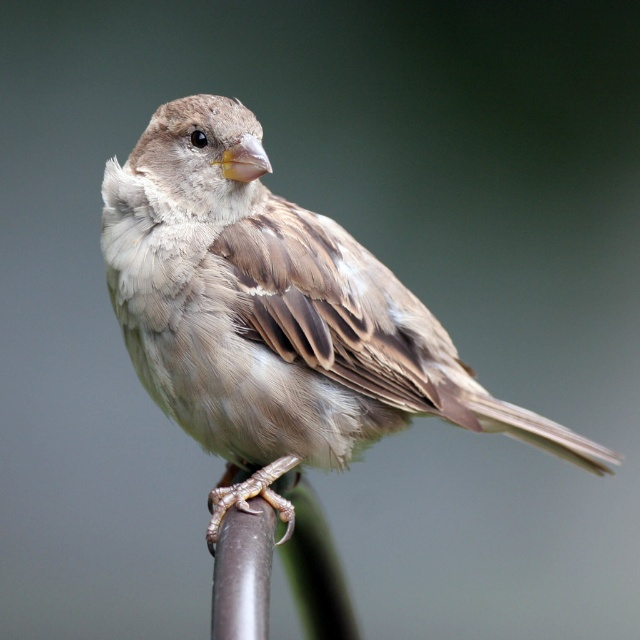Sparrow: (100, 94, 624, 557)
